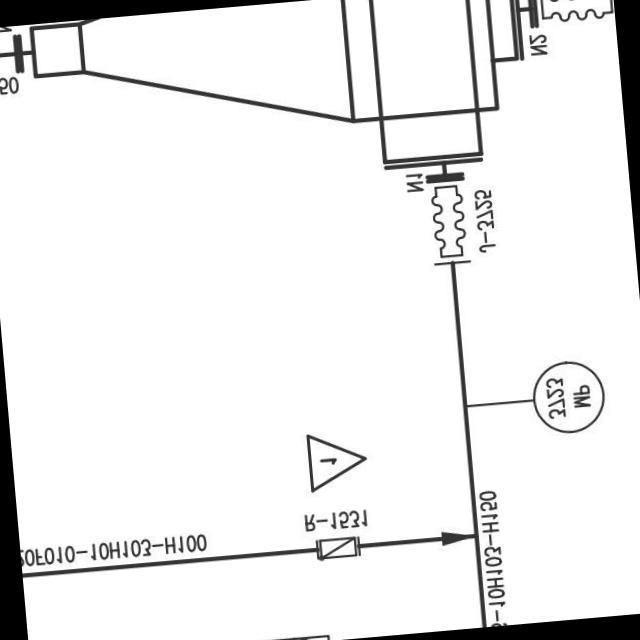CV2: (308, 527, 366, 569)
CY: (22, 0, 538, 215)
EJ: (424, 178, 475, 274), (527, 0, 614, 33)
